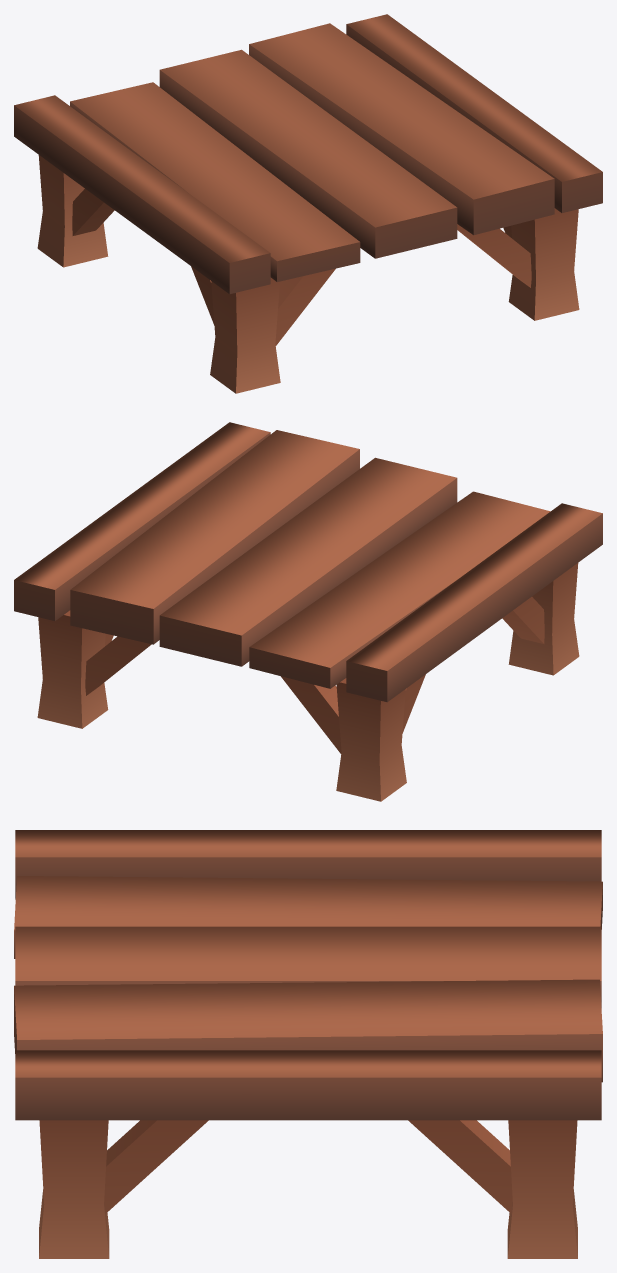
Rendered from structure-platform.glb.
3 views of the same model, one above another, from view 1: azimuth 30°, elevation 25°; view 2: azimuth 150°, elevation 25°; view 3: azimuth 270°, elevation 25° (orthographic). The views are drawn at different scales.
Parts seen in each view (by area): view 1: structure-platform; view 2: structure-platform; view 3: structure-platform.
Part boxes in pixels (x1=…): structure-platform: x1=14, y1=14, x2=602, y2=393; structure-platform: x1=14, y1=422, x2=602, y2=801; structure-platform: x1=14, y1=830, x2=602, y2=1258.
Size of the model in its own units: 2.5 by 0.9281 by 2.51.
